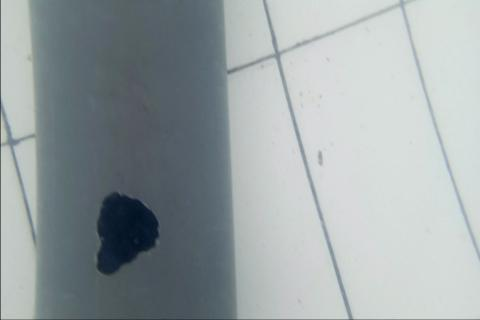kebocoran: (94, 189, 162, 279)
